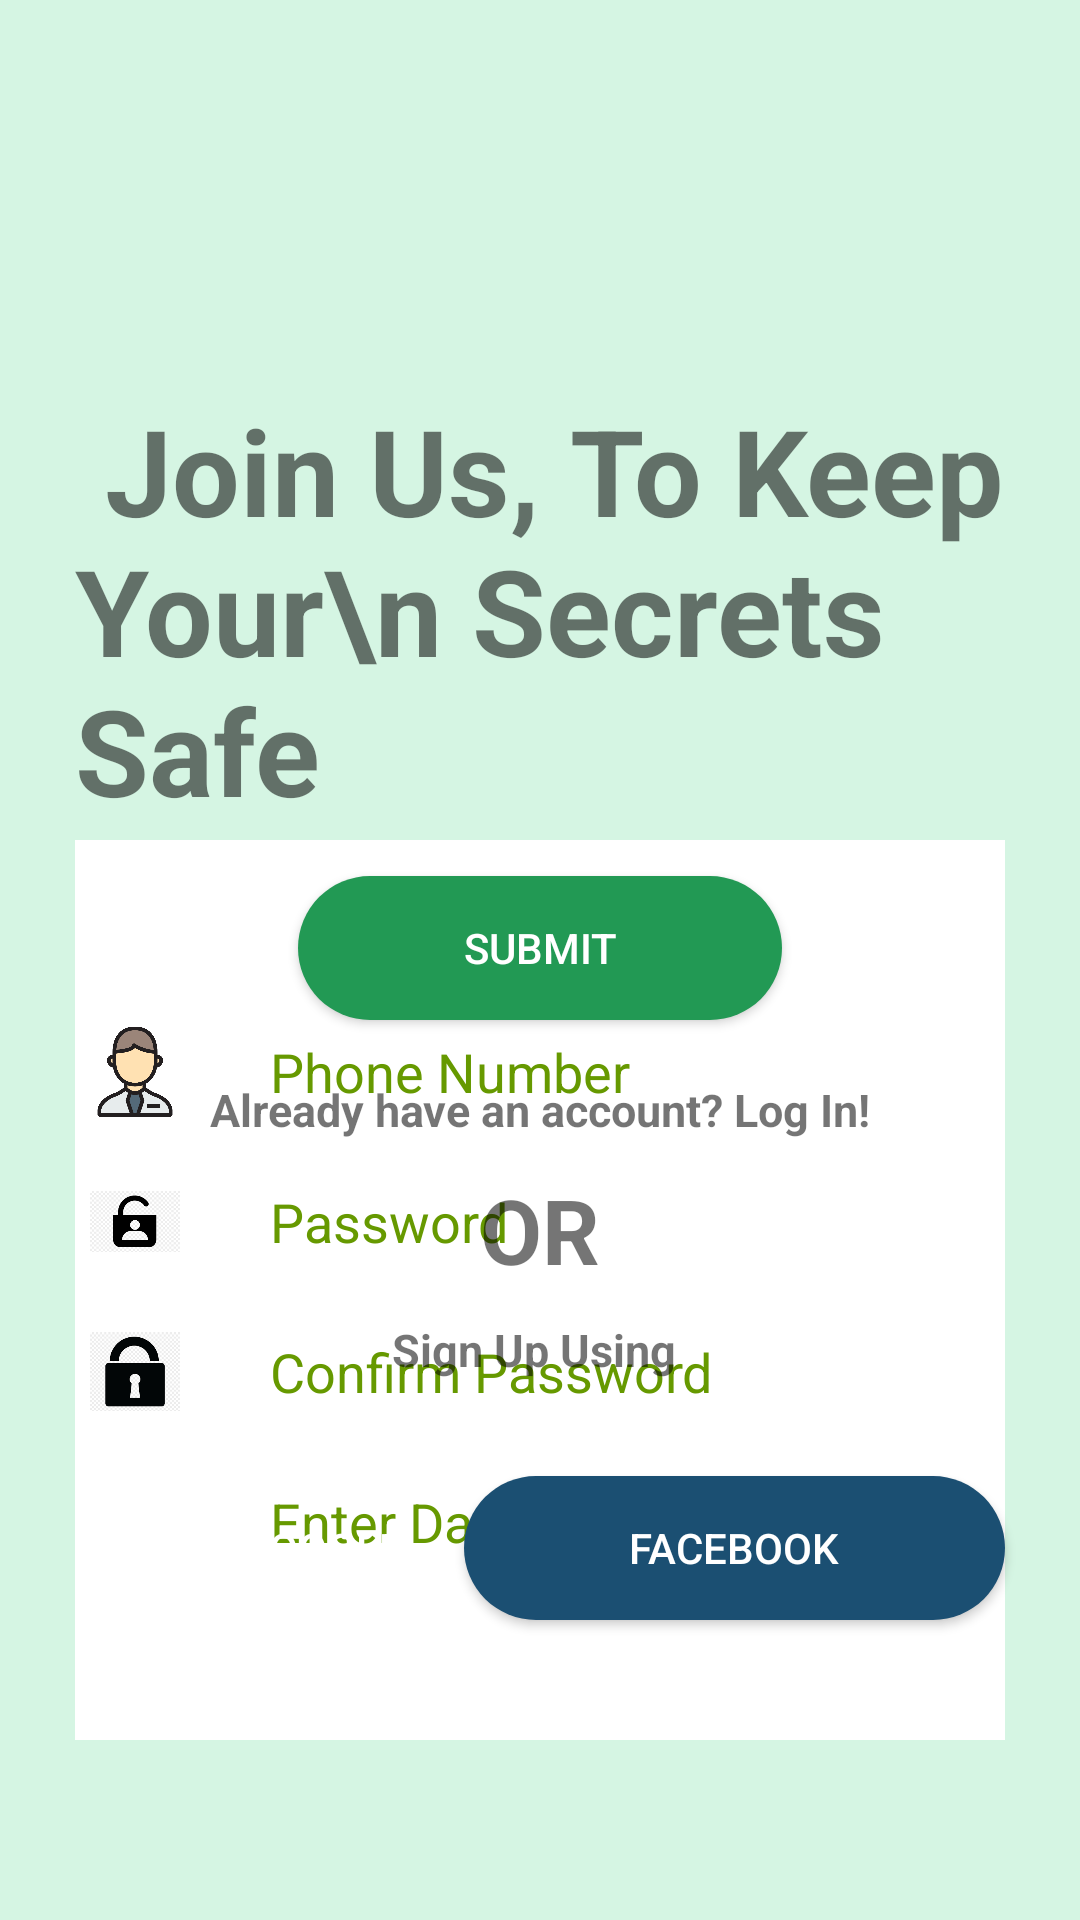

Where icons sit on this 1080 x 1920 app screen, as (left=x1, top=y1, right=x2, bottom=y2):
user: (left=97, top=1027, right=173, bottom=1117)
